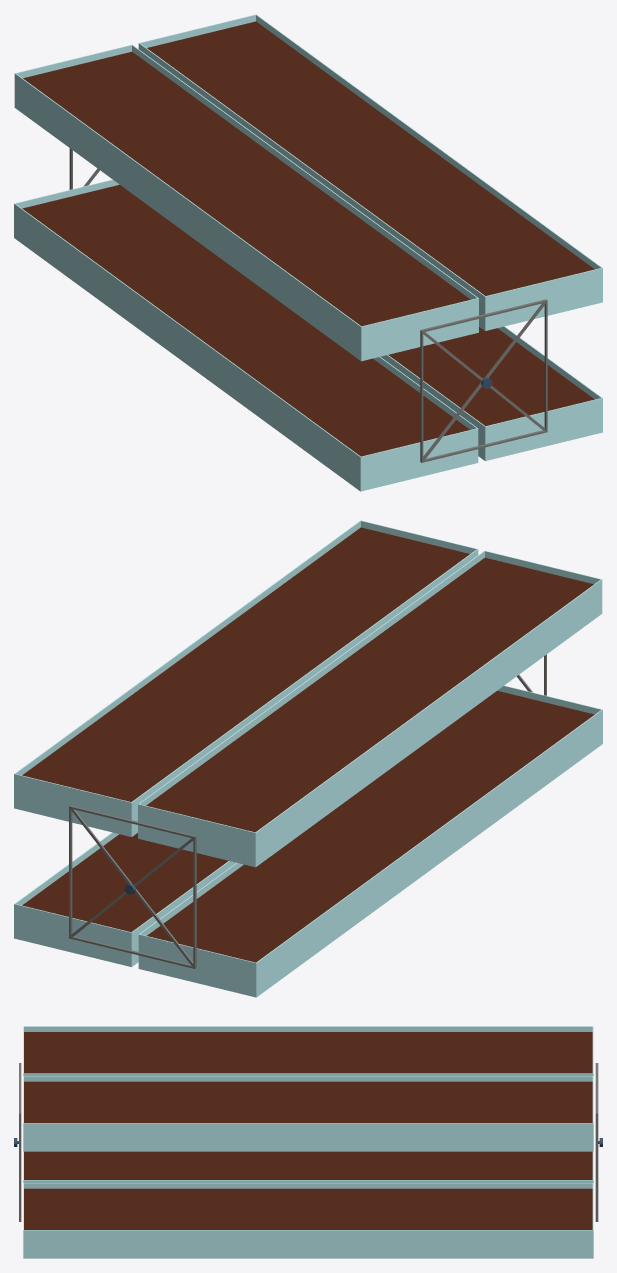
Rendered from Atrium_Planter.glb.
3 renders of one model, top to bottom at view 1: azimuth 30°, elevation 25°; view 2: azimuth 150°, elevation 25°; view 3: azimuth 270°, elevation 25°, orthographic. The views are drawn at different scales.
Parts seen in each view (by area): view 1: PlanterSet; view 2: PlanterSet; view 3: PlanterSet.
Boxes of the visible parts, box(x1,y1,x2,y2) form: PlanterSet: box(14, 14, 602, 491); PlanterSet: box(14, 520, 602, 997); PlanterSet: box(14, 1026, 602, 1258).
Size of the model in its own units: 1.85 by 1.2 by 4.74.
